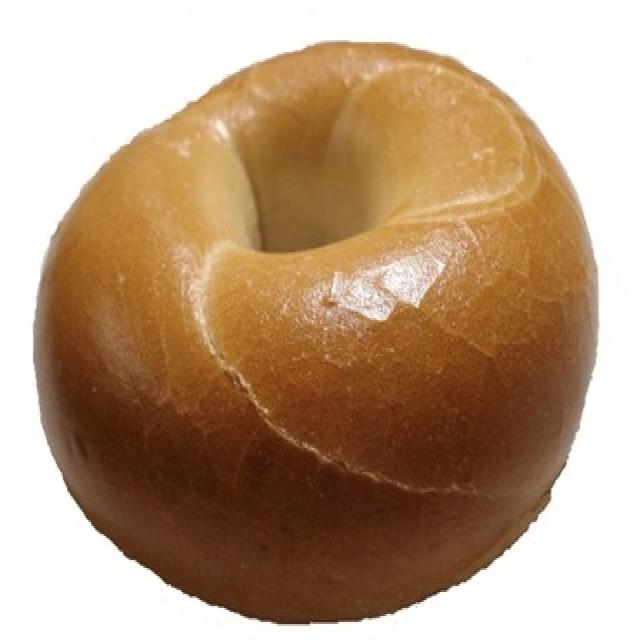面包点心: (20, 34, 607, 620)
